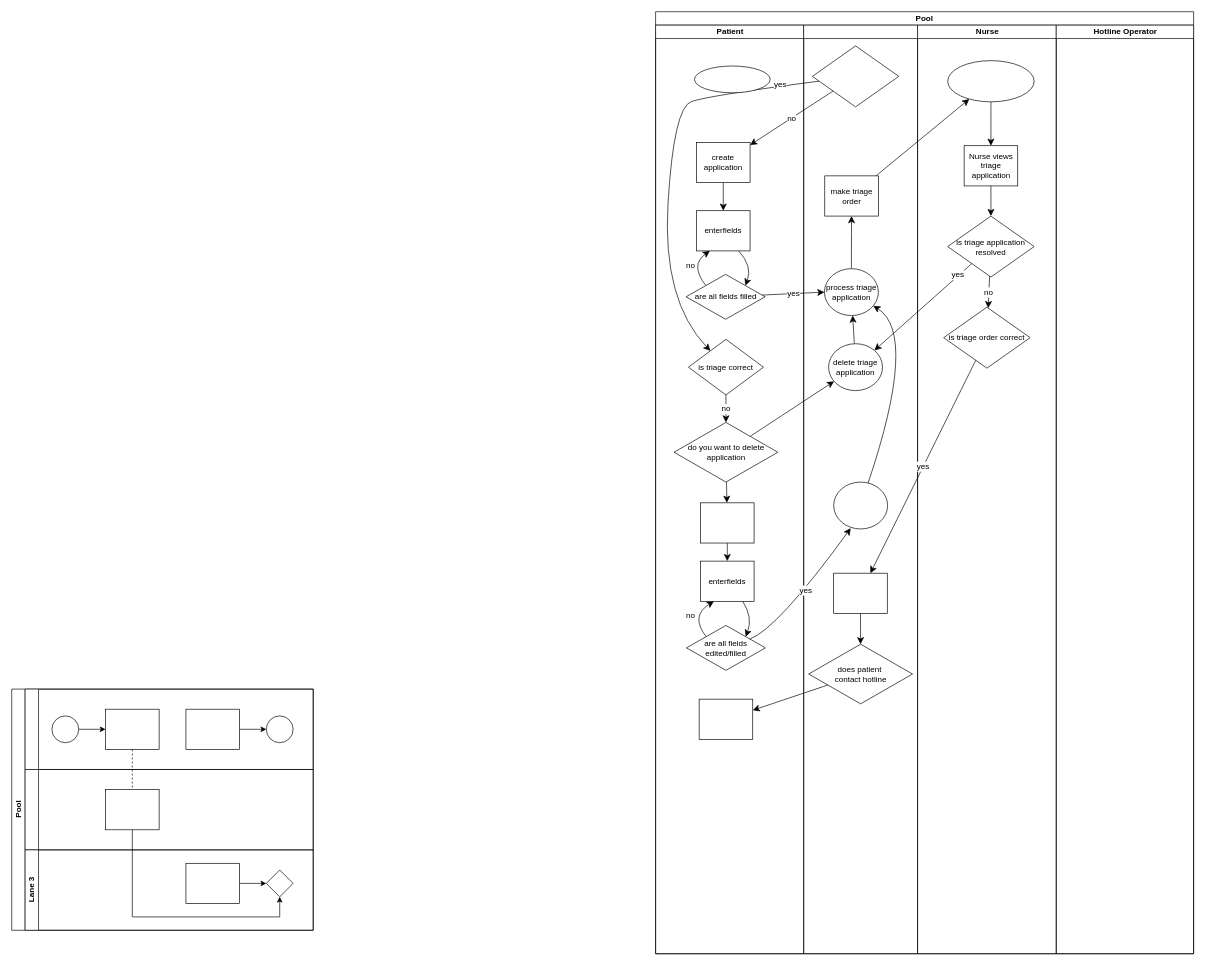
Some shapes in this 1205 by 965 pixel diagram are drawn without their labels. The shapes that lost their labels are listed below. From the top down, each one's box as (x1, y1, x2, y2) in pixels, then its label:
(694, 65, 770, 93): Patent Views Applications
(812, 45, 899, 107): Check if patient has current Triage Application
(947, 60, 1034, 102): Nurse Views Triage Order
(803, 24, 918, 954): Server
(833, 481, 888, 529): update triage application
(700, 502, 754, 543): update application
(833, 573, 887, 613): notify patient
(24, 688, 313, 769): Lane 1
(698, 698, 753, 739): contact hotline
(24, 769, 313, 850): Lane 2
